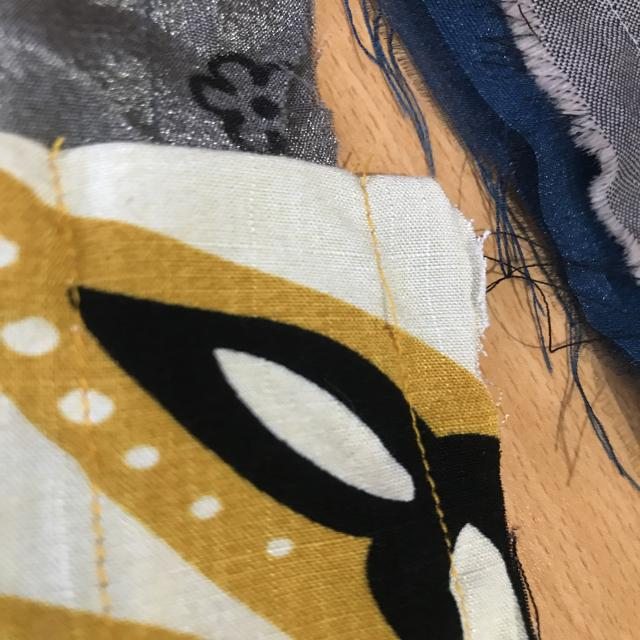skip: (366, 261, 419, 357)
